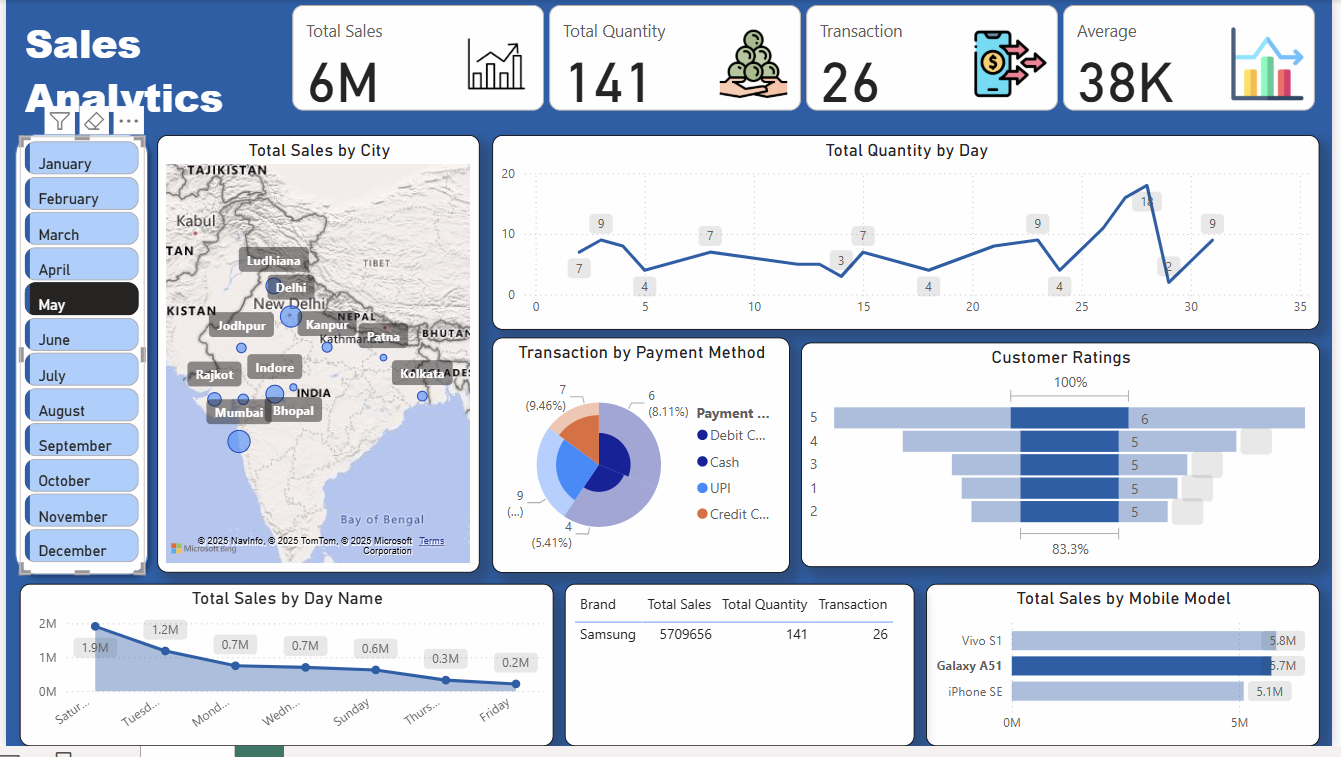

What the dashboard file says about the page in this screenshot:
{"tool":"powerbi","page":{"name":"Page 1","canvas":[1280,720],"ordinal":0},"visuals":[{"type":"shape","box":[0,120.6,146,442.8],"z":0},{"type":"advancedSlicerVisual","fields":{"Values":["Sales_Data.Date.Variation.Date Hierarchy.Month"]},"box":[13.3,131.5,120.6,422.3],"z":1000},{"type":"cardVisual","fields":{"Data":["Sales_Data.Total_sales","Sales_Data.Total_Quantity","Sales_Data.Transaction","Sales_Data.Average"]},"box":[271.4,0,997.7,112.2],"z":2000},{"type":"map","fields":{"Category":["Sales_Data.City"],"Size":["Sales_Data.Total Sales"]},"box":[145.5,130.4,311.5,422.6],"z":3000},{"type":"lineChart","fields":{"Category":["Sales_Data.Date.Variation.Date Hierarchy.Month","Sales_Data.Date.Variation.Date Hierarchy.Day"],"Y":["Sales_Data.Total Quantity"]},"box":[469.3,130.3,798.7,188.2],"z":4000},{"type":"clusteredBarChart","fields":{"Category":["Sales_Data.Mobile Model"],"Y":["Sales_Data.Total Sales"]},"box":[887.9,563.4,380,156.8],"z":5000},{"type":"pieChart","fields":{"Category":["Sales_Data.Payment Method"],"Y":["Sales_Data.Transaction"]},"box":[469.3,325.7,287.1,226.8],"z":6000},{"type":"funnel","title":" Customer Ratings","fields":{"Category":["Sales_Data.Customer Ratings"],"Y":["CountNonNull(Sales_Data.Customer Ratings)"]},"box":[767.3,330.6,500.7,217.2],"z":7000},{"type":"areaChart","fields":{"Category":["Sales_Data.Day Name"],"Y":["Sales_Data.Total Sales"]},"box":[13.3,563.4,515.2,156.8],"z":8000},{"type":"tableEx","fields":{"Values":["Sales_Data.Brand","Sales_Data.Total Sales","Sales_Data.Total Quantity","Sales_Data.Transaction"]},"box":[539.3,563.4,337.8,156.8],"z":9000},{"type":"textbox","box":[13.3,10.9,288.3,129.1],"z":10000}]}

Visuals, with their boxes in screenshot pixels (x1, y1, x2, y2), scaled from the page's 1280x720 canvas onto the 1341x757 screenshot:
shape: [0, 127, 153, 592]
advancedSlicerVisual - Sales_Data.Date.Variation.Date Hierarchy.Month: [14, 138, 140, 582]
cardVisual - Sales_Data.Total_sales x Sales_Data.Total_Quantity: [284, 0, 1330, 118]
map - Sales_Data.City x Sales_Data.Total Sales: [152, 137, 479, 581]
lineChart - Sales_Data.Date.Variation.Date Hierarchy.Month x Sales_Data.Date.Variation.Date Hierarchy.Day: [492, 137, 1328, 335]
clusteredBarChart - Sales_Data.Mobile Model x Sales_Data.Total Sales: [930, 592, 1328, 756]
pieChart - Sales_Data.Payment Method x Sales_Data.Transaction: [492, 342, 792, 581]
" Customer Ratings" funnel: [804, 348, 1328, 576]
areaChart - Sales_Data.Day Name x Sales_Data.Total Sales: [14, 592, 554, 756]
tableEx - Sales_Data.Brand x Sales_Data.Total Sales: [565, 592, 919, 756]
textbox: [14, 11, 316, 147]
